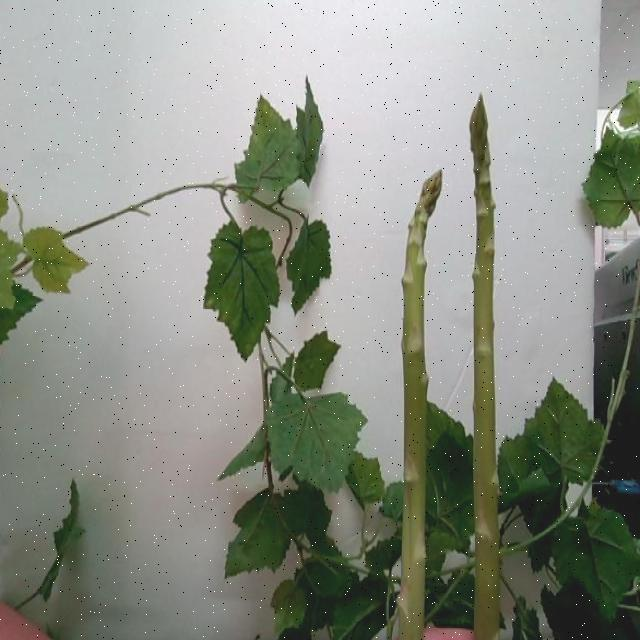aspargus: (394, 173, 444, 640), (467, 98, 501, 640)
